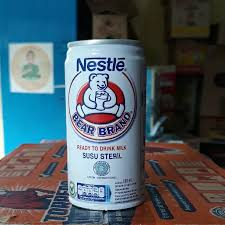metal: (62, 39, 149, 209)
